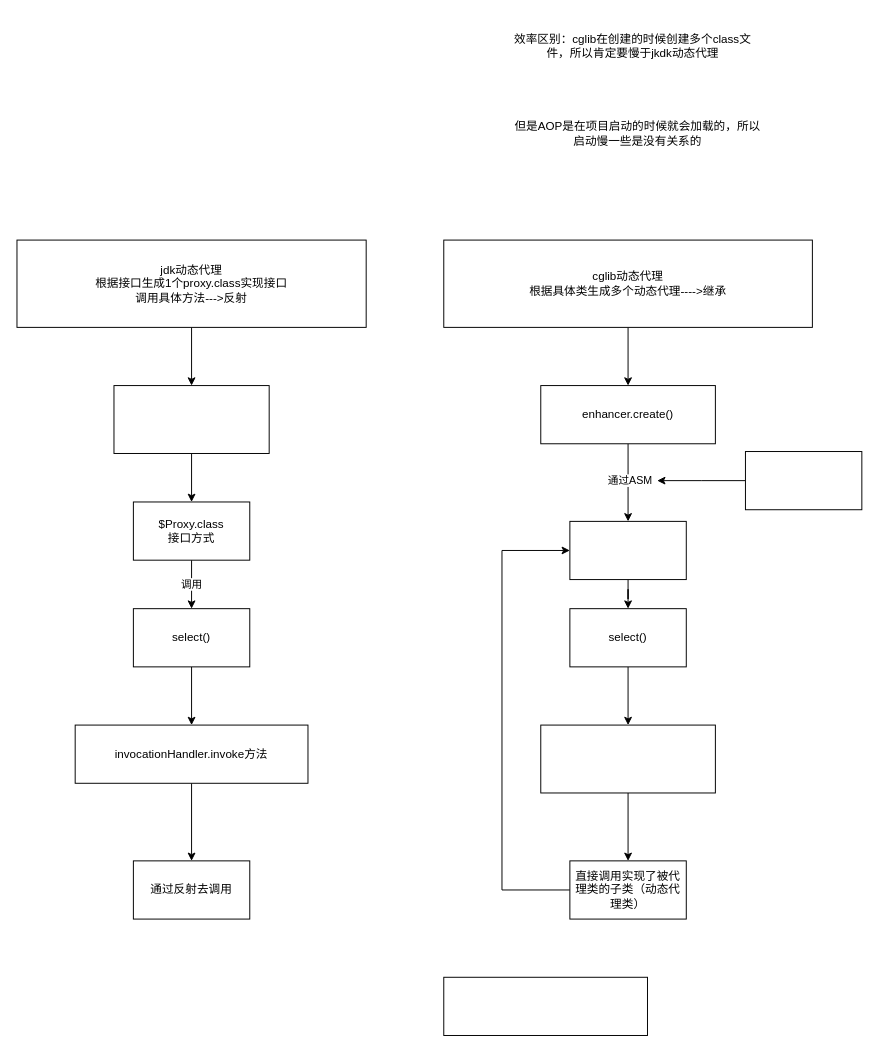
Image size: 879x1052. Some labels were removed from this diagram. Here are the shapes that lost their labels. From the top down, the centre of each, then its label:
the point at 191,419: Proxy.newProxyInstance
the point at 803,480: 专门用来编写字节码文件的框架
the point at 627,550: 会生成多个cglib.class 继承方式
the point at 627,758: MethodInterceptor.intercept
the point at 545,1005: 就调用而言，因为jdk是使用反射进行调用，而cglib是直接调用，所以效果更高
